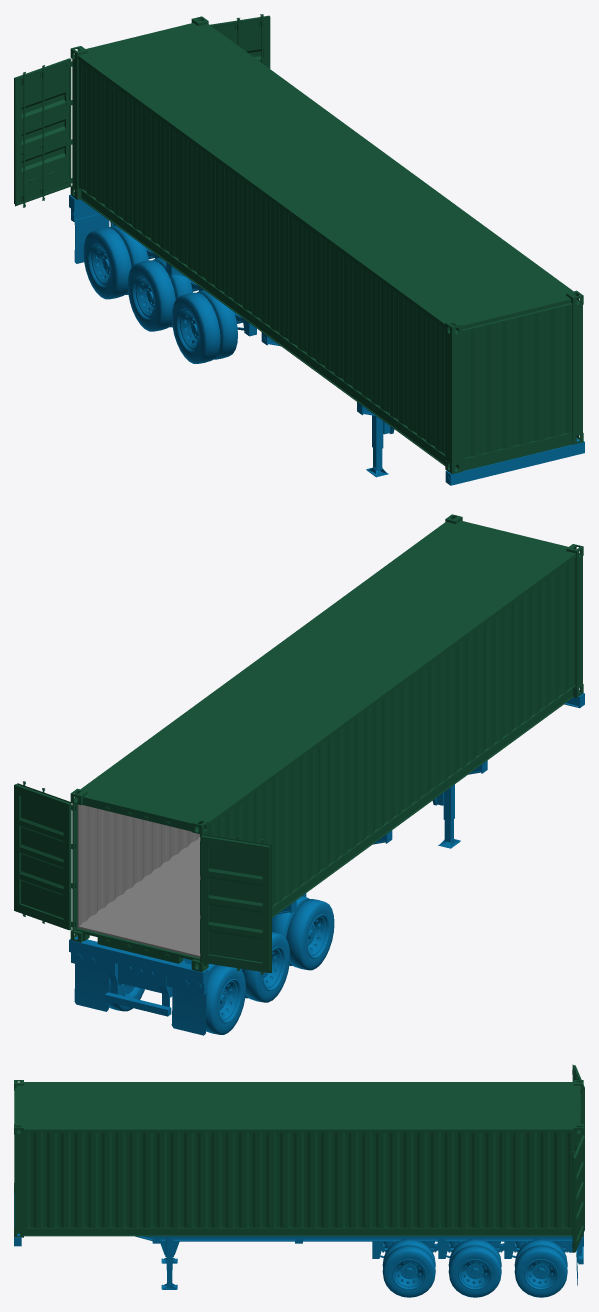
The model's file is ContainerTrailer.glb.
The picture shows the model from 3 angles, top to bottom: view 1: azimuth 30°, elevation 25°; view 2: azimuth 150°, elevation 25°; view 3: azimuth 270°, elevation 25°; orthographic projection. The views are drawn at different scales.
Visible parts, largest first — view 1: Container, Chassis, Door_Right, Door_Left; view 2: Container, Chassis, Interior, Door_Right, Door_Left; view 3: Container, Chassis, Door_Left.
Part boxes in pixels (x1,y1,x2,y2): Container: (70,16,583,474); Chassis: (69,193,584,485); Door_Right: (14,58,72,207); Door_Left: (210,14,270,68); Container: (70,514,583,971); Chassis: (69,691,584,1035); Interior: (77,804,200,957); Door_Right: (200,834,271,974); Door_Left: (14,781,74,930); Container: (14,1080,583,1237); Chassis: (14,1193,583,1297); Door_Left: (572,1135,584,1252).
Size of the model in its own units: 4.73 by 4.04 by 12.24.
